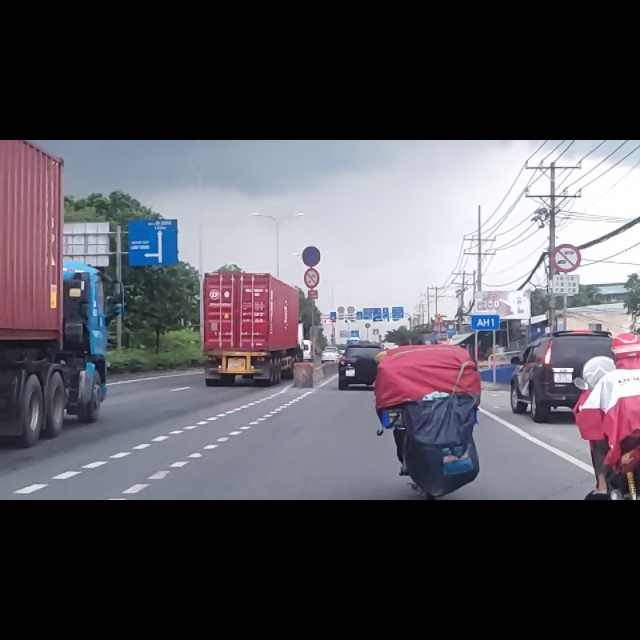bien_nguy_hiem: (550, 184, 581, 238), (302, 187, 321, 225), (304, 228, 319, 263)
